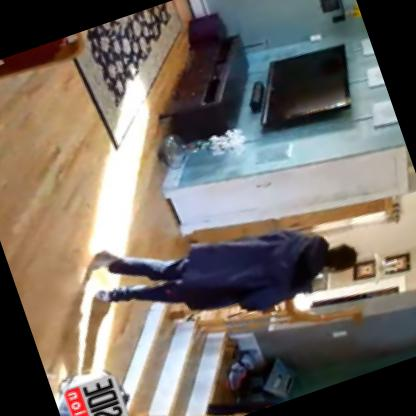Human Body: (72, 165, 368, 361)
